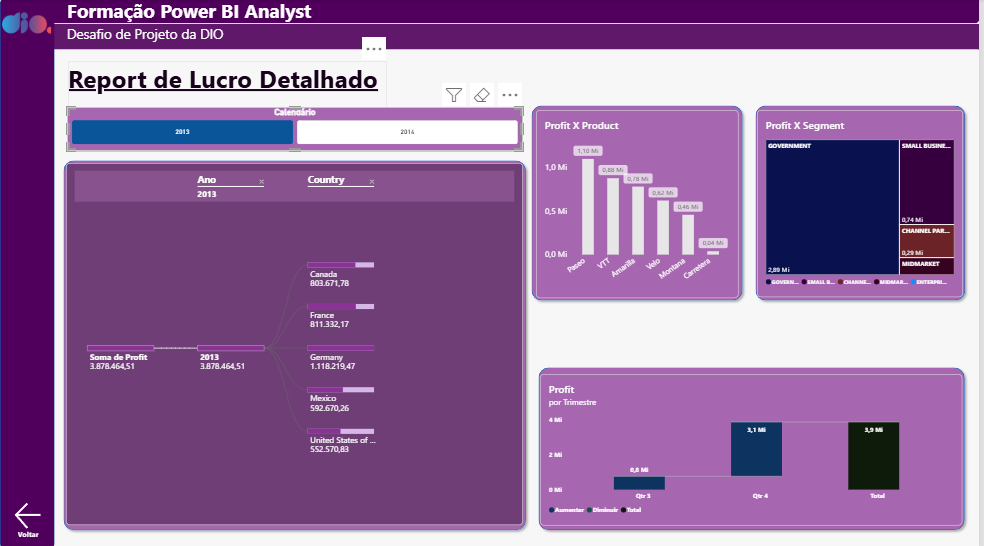

What the dashboard file says about the page in this screenshot:
{"tool":"powerbi","page":{"name":"Página 2","canvas":[1920,1080],"ordinal":1},"visuals":[{"type":"shape","box":[115.7,310,924.3,742.9],"z":0},{"type":"shape","box":[0,0,106.9,1080.6],"z":1000},{"type":"image","box":[4.5,0,102.4,97.8],"z":2000},{"type":"shape","box":[100.1,0,1819.9,50],"z":3000},{"type":"shape","box":[100,50,1819.9,50],"z":4000},{"type":"textbox","box":[131.9,0,495.9,86.4],"z":5000},{"type":"textbox","box":[116,50,527.8,86.4],"z":6000},{"type":"textbox","box":[132.7,124.5,626.5,112.2],"z":7000},{"type":"shape","box":[1032.9,202.9,431.4,400],"z":8000},{"type":"shape","box":[1472.9,202.9,428.6,400],"z":9000},{"type":"shape","box":[1046.4,716.6,853.1,336.7],"z":10000},{"type":"decompositionTreeVisual","fields":{"Analyze":["Sum(financials.Profit)"],"ExplainBy":["financials.Date.Variação.Hierarquia de datas.Ano","financials.Country"]},"box":[130,324.3,896,710],"z":11000},{"type":"treemap","title":"Profit X Segment","fields":{"Group":["financials.Segment"],"Values":["Sum(financials.Profit)"]},"box":[1484.3,220,404,367.1],"z":12000},{"type":"waterfallChart","title":"Profit","fields":{"Category":["financials.Date.Variação.Hierarquia de datas.Trimestre"],"Y":["Sum(financials.Profit)"]},"box":[1058.3,736.7,828.3,296.7],"z":13000},{"type":"lineStackedColumnComboChart","title":"Profit X Product","fields":{"Category":["financials.Product"],"Y":["Sum(financials.Profit)"]},"box":[1050,220,397.1,368.6],"z":14000},{"type":"advancedSlicerVisual","title":"Calendário","fields":{"Values":["financials.Date.Variação.Hierarquia de datas.Ano"]},"box":[131.4,212.9,894.3,87.1],"z":15000},{"type":"actionButton","box":[5.7,960,99,109],"z":16000}]}

Visuals, with their boxes in screenshot pixels (x1, y1, x2, y2):
shape: locate(55, 155, 532, 539)
shape: locate(0, 0, 50, 545)
image: locate(0, 0, 50, 45)
shape: locate(47, 0, 983, 21)
shape: locate(47, 21, 983, 47)
textbox: locate(63, 0, 319, 40)
textbox: locate(55, 21, 328, 65)
textbox: locate(63, 59, 387, 117)
shape: locate(529, 100, 751, 306)
shape: locate(756, 100, 977, 306)
shape: locate(536, 365, 976, 539)
decompositionTreeVisual - Sum(financials.Profit) x financials.Date.Variação.Hierarquia de datas.Ano: locate(62, 162, 525, 529)
"Profit X Segment" treemap: locate(762, 109, 971, 298)
"Profit" waterfallChart: locate(542, 376, 970, 529)
"Profit X Product" lineStackedColumnComboChart: locate(537, 109, 743, 299)
"Calendário" advancedSlicerVisual: locate(63, 105, 525, 150)
actionButton: locate(0, 491, 49, 545)
